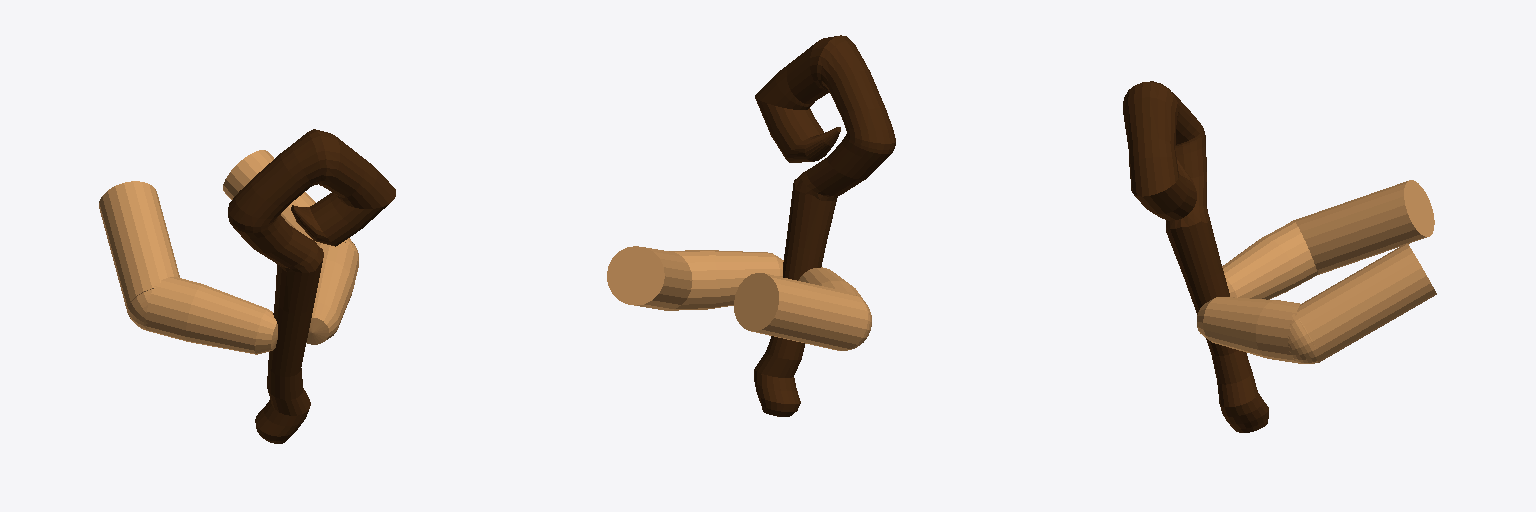
Rendered from wand_arm.obj.
The picture shows the model from 3 angles: view 1: azimuth 30°, elevation 25°; view 2: azimuth 150°, elevation 25°; view 3: azimuth 270°, elevation 25°; orthographic projection.
Parts seen in each view (by area): view 1: group4 wand:pCylinder1, pCylinder3 group2 group4, group2 group4 pCylinder4, group3 pCylinder3, pCylinder4 group3, group2 group4 pSphere1; view 2: group4 wand:pCylinder1, group2 group4 pCylinder4, pCylinder4 group3, group3 pCylinder3, pCylinder3 group2 group4; view 3: group4 wand:pCylinder1, pCylinder4 group3, group2 group4 pCylinder4, group3 pCylinder3, pCylinder3 group2 group4, group3 pSphere1.
Boxes of the visible parts, box(x1,y1,x2,y2) form: group4 wand:pCylinder1: box(228, 129, 395, 443); pCylinder3 group2 group4: box(146, 277, 277, 354); group2 group4 pCylinder4: box(99, 181, 179, 318); group3 pCylinder3: box(306, 242, 358, 344); pCylinder4 group3: box(223, 150, 354, 244); group2 group4 pSphere1: box(128, 289, 152, 331); group4 wand:pCylinder1: box(754, 35, 895, 416); group2 group4 pCylinder4: box(734, 273, 867, 350); pCylinder4 group3: box(607, 246, 692, 310); group3 pCylinder3: box(668, 250, 783, 310); pCylinder3 group2 group4: box(798, 267, 870, 312); group4 wand:pCylinder1: box(1123, 81, 1268, 432); pCylinder4 group3: box(1292, 243, 1436, 362); group2 group4 pCylinder4: box(1291, 180, 1434, 274); group3 pCylinder3: box(1197, 297, 1300, 363); pCylinder3 group2 group4: box(1222, 221, 1317, 299); group3 pSphere1: box(1288, 319, 1317, 363).
Size of the model in its own units: 3.3 by 4.79 by 3.96.